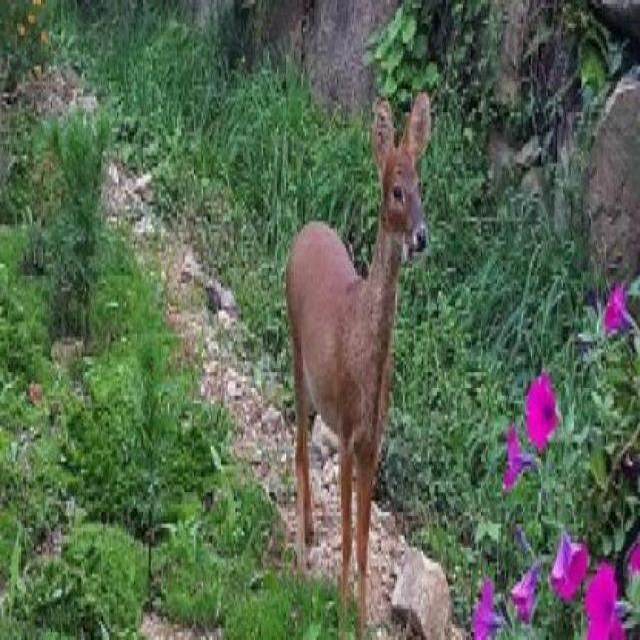deer: (283, 86, 434, 637)
